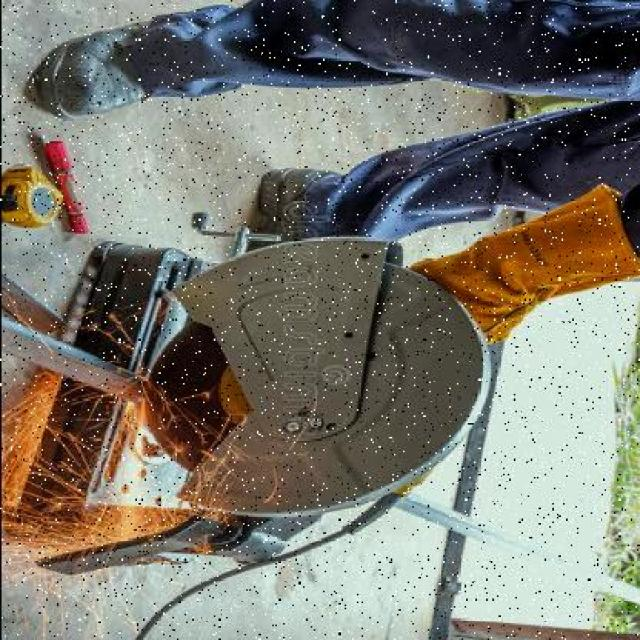shoes: (26, 13, 194, 121), (243, 162, 346, 258)
